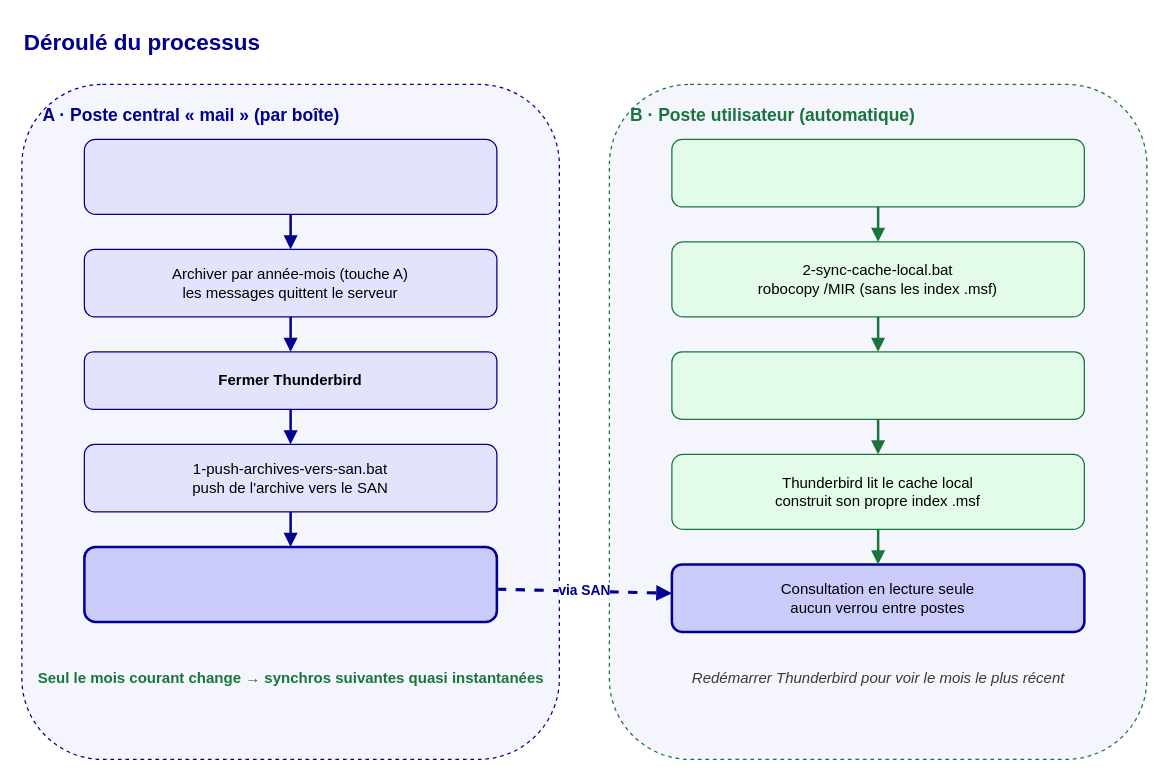
Image size: 1169x781. Some labels were removed from this diagram. Each missing label, with the box of its shape:
Passage en lecture seule attrib +R sur les fichiers d'archive: (671, 351, 1084, 419)
SAN : archive maître mois écoulé = fichier figé (immuable): (82, 545, 498, 622)
Tâche planifiée chaque jour + ouverture de session: (671, 138, 1084, 207)
Vérifier le téléchargement complet IMAP : sinon seuls les en-têtes sont archivés: (83, 138, 497, 214)
